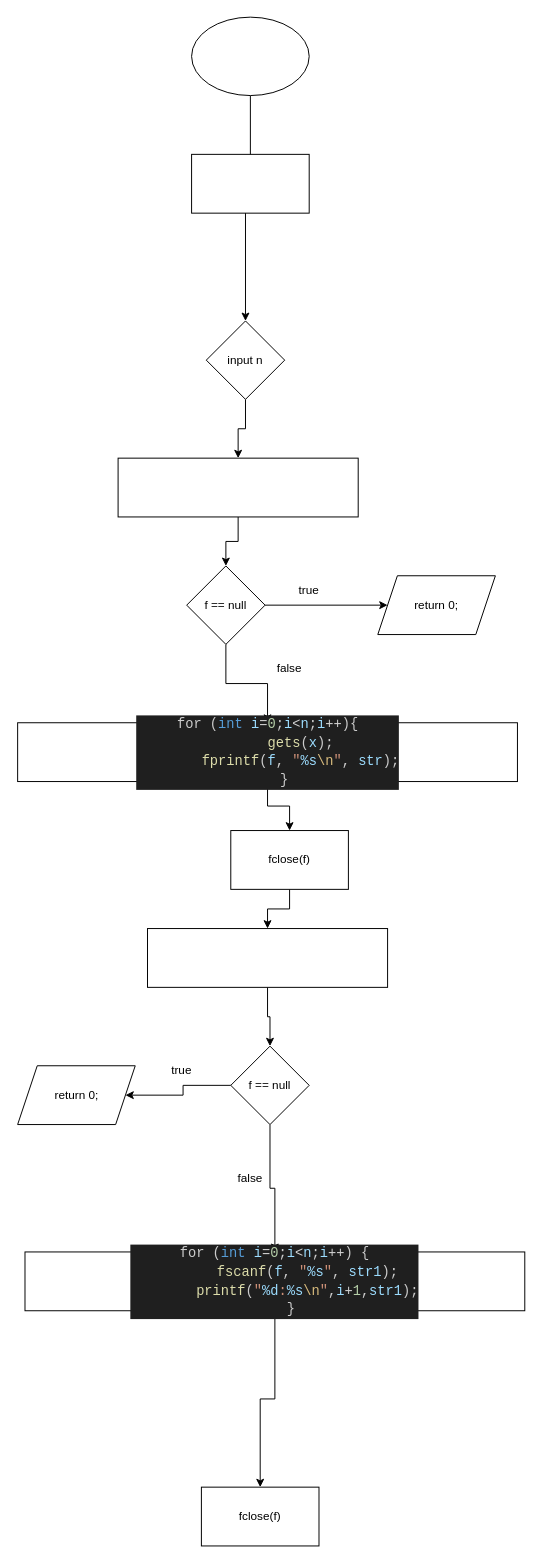
Image size: 542x1563. Some labels were removed from this diagram. Here are the shapes that lost their labels. From the top down, the centre of each, then its label:
the point at 250,56: start
the point at 250,183: char str1[20] str[20]
the point at 237,487: f = fopen ( "bt03.txt" , "w" );
the point at 267,957: f = fopen ( "bt01.txt" , "r" );
